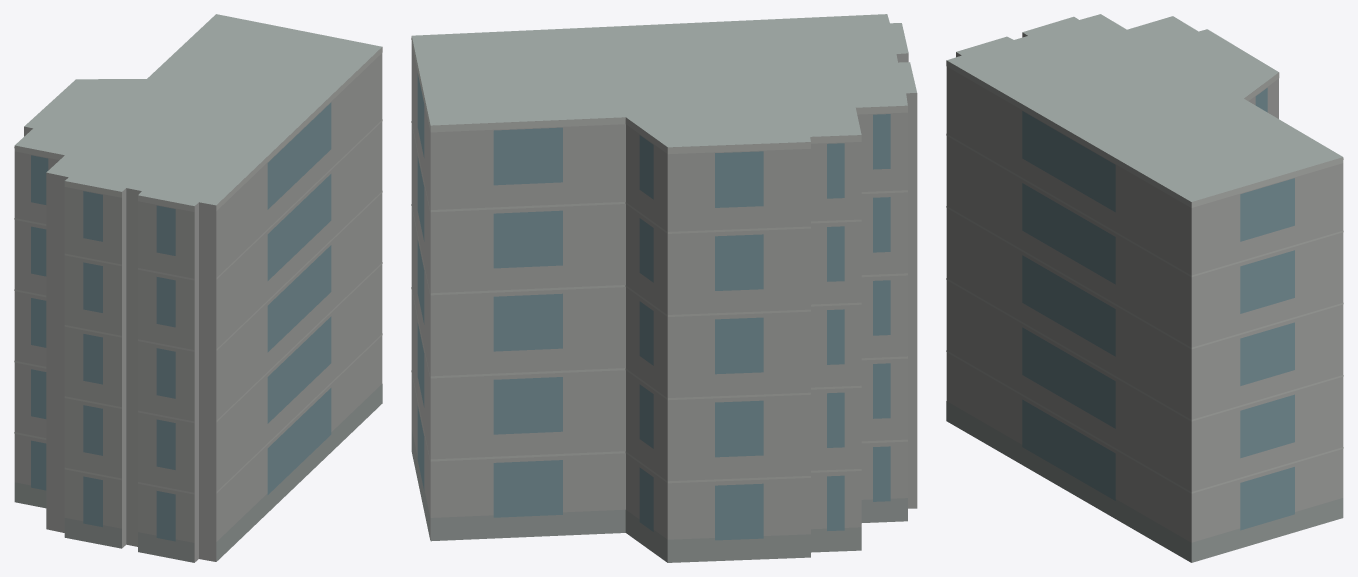
File: survey-upis-32660036.glb
3 renders of one model, left to right at view 1: azimuth 30°, elevation 25°; view 2: azimuth 150°, elevation 25°; view 3: azimuth 270°, elevation 25°, orthographic. The views are drawn at different scales.
Visible parts, largest first — view 1: survey-upis-32660036.tmp; view 2: survey-upis-32660036.tmp; view 3: survey-upis-32660036.tmp.
Boxes of the visible parts, bbox=[...] form: survey-upis-32660036.tmp: bbox=[14, 14, 382, 562]; survey-upis-32660036.tmp: bbox=[411, 14, 917, 562]; survey-upis-32660036.tmp: bbox=[946, 14, 1343, 562].
Size of the model in its own units: 16.45 by 14.7 by 14.67.
